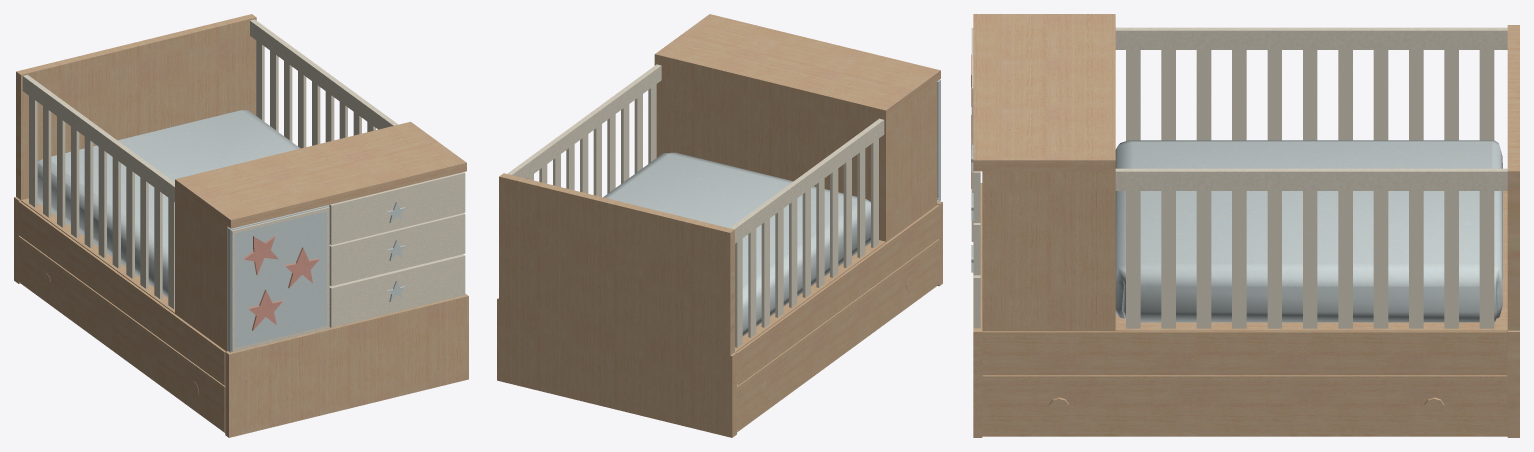
File: BabyCot.fbx
3 views of the same model, side by side, from view 1: azimuth 30°, elevation 25°; view 2: azimuth 150°, elevation 25°; view 3: azimuth 270°, elevation 25° (orthographic). The views are drawn at different scales.
Visible parts, largest first — view 1: polySurface17, polySurface16, polySurface5, polySurface25, polySurface24, polySurface60, polySurface58, polySurface59, polySurface57, polySurface34, polySurface61, polySurface52 (+19 smaller); view 2: polySurface17, polySurface16, polySurface25, polySurface24, polySurface57, polySurface34, polySurface52, polySurface49, polySurface55, polySurface48, polySurface50, polySurface53 (+12 smaller); view 3: polySurface17, polySurface16, polySurface19, polySurface18, polySurface34, polySurface57, polySurface35, polySurface38, polySurface43, polySurface36, polySurface37, polySurface39 (+16 smaller).
Part boxes in pixels (left/top/right/bottom): polySurface17: left=14, top=14, right=468, bottom=437; polySurface16: left=37, top=110, right=300, bottom=297; polySurface5: left=227, top=205, right=329, bottom=352; polySurface25: left=18, top=236, right=225, bottom=432; polySurface24: left=18, top=201, right=225, bottom=385; polySurface60: left=329, top=254, right=465, bottom=327; polySurface58: left=329, top=213, right=465, bottom=286; polySurface59: left=329, top=172, right=465, bottom=245; polySurface57: left=22, top=74, right=174, bottom=201; polySurface34: left=250, top=19, right=398, bottom=129; polySurface61: left=231, top=207, right=329, bottom=351; polySurface52: left=84, top=137, right=93, bottom=248; polySurface17: left=497, top=14, right=942, bottom=437; polySurface16: left=603, top=152, right=870, bottom=336; polySurface25: left=737, top=239, right=939, bottom=431; polySurface24: left=736, top=205, right=939, bottom=385; polySurface57: left=730, top=118, right=884, bottom=243; polySurface34: left=507, top=64, right=661, bottom=178; polySurface52: left=789, top=198, right=797, bottom=307; polySurface49: left=830, top=168, right=838, bottom=277; polySurface55: left=748, top=228, right=756, bottom=337; polySurface48: left=843, top=158, right=851, bottom=267; polySurface50: left=816, top=178, right=824, bottom=287; polySurface53: left=775, top=208, right=783, bottom=317; polySurface17: left=973, top=14, right=1519, bottom=437; polySurface16: left=1115, top=140, right=1502, bottom=322; polySurface19: left=982, top=375, right=1506, bottom=433; polySurface18: left=982, top=331, right=1506, bottom=374; polySurface34: left=1115, top=168, right=1507, bottom=190; polySurface57: left=1115, top=27, right=1507, bottom=49; polySurface35: left=1479, top=191, right=1494, bottom=328; polySurface38: left=1196, top=191, right=1211, bottom=328; polySurface43: left=1373, top=191, right=1388, bottom=328; polySurface36: left=1126, top=191, right=1140, bottom=328; polySurface37: left=1161, top=191, right=1175, bottom=328; polySurface39: left=1232, top=191, right=1246, bottom=328.
Size of the model in its own units: 1.39 by 1.19 by 2.14.
Materials: 5 (5 with a texture image).
